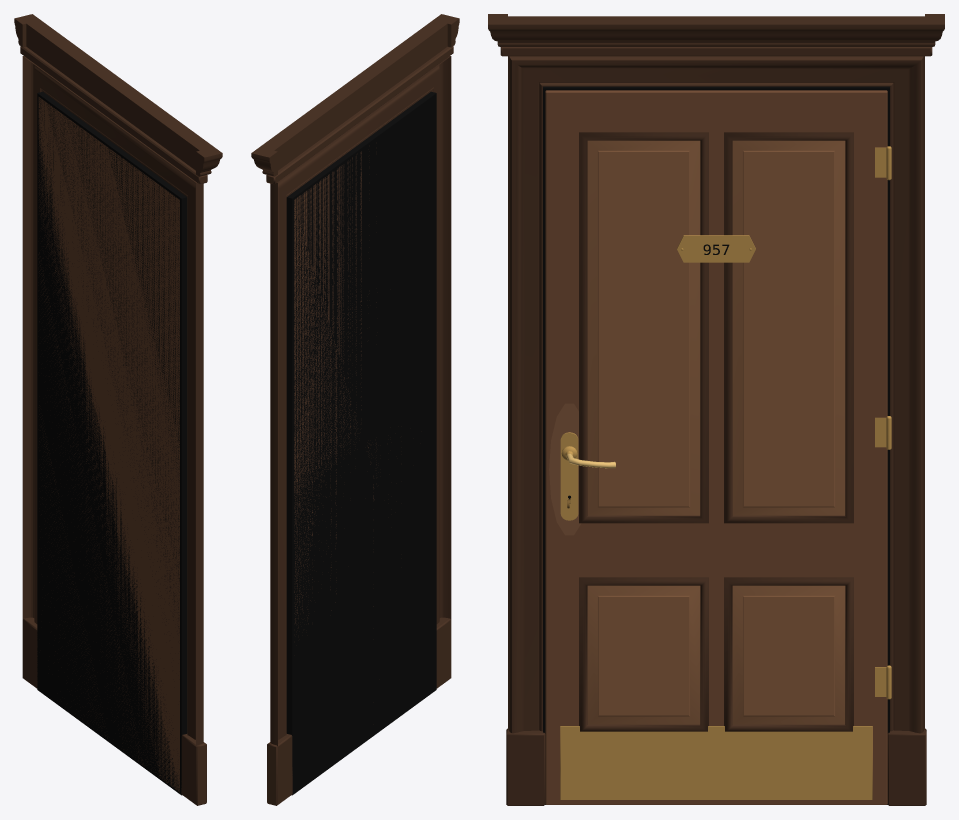
File: hotel_door_f@3.glb
The picture shows the model from 3 angles, left to right: view 1: azimuth 30°, elevation 25°; view 2: azimuth 150°, elevation 25°; view 3: azimuth 270°, elevation 25°; orthographic projection. The views are drawn at different scales.
Parts seen in each view (by area): view 1: fuge, blatt, bekleidung, verdachung; view 2: fuge, bekleidung, blatt, verdachung; view 3: fuellungen, blatt, bekleidung, kehlleisten, beschlag, verdachung, fuge, nummernschild, abrieb.
Part boxes in pixels (left/top/right/bottom): fuge: left=37, top=91, right=187, bottom=795; blatt: left=38, top=97, right=179, bottom=792; bekleidung: left=22, top=56, right=206, bottom=805; verdachung: left=14, top=14, right=222, bottom=184; fuge: left=286, top=91, right=436, bottom=795; bekleidung: left=267, top=56, right=451, bottom=805; blatt: left=294, top=151, right=376, bottom=627; verdachung: left=251, top=14, right=459, bottom=184; fuellungen: left=587, top=140, right=845, bottom=724; blatt: left=545, top=90, right=887, bottom=804; bekleidung: left=506, top=56, right=926, bottom=805; kehlleisten: left=579, top=132, right=853, bottom=731; beschlag: left=560, top=146, right=891, bottom=799; verdachung: left=488, top=14, right=944, bottom=56; fuge: left=543, top=86, right=889, bottom=804; nummernschild: left=677, top=235, right=755, bottom=262; abrieb: left=549, top=403, right=581, bottom=535.
Size of the model in its own units: 0.1118 by 2.33 by 1.23.
